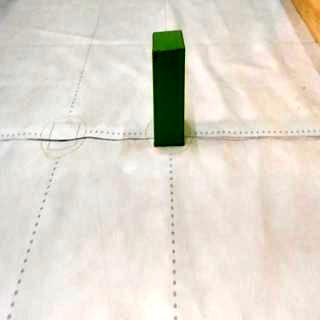greenbox: (152, 31, 186, 145)
